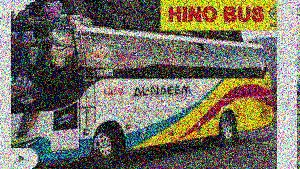bus: (12, 14, 271, 162)
